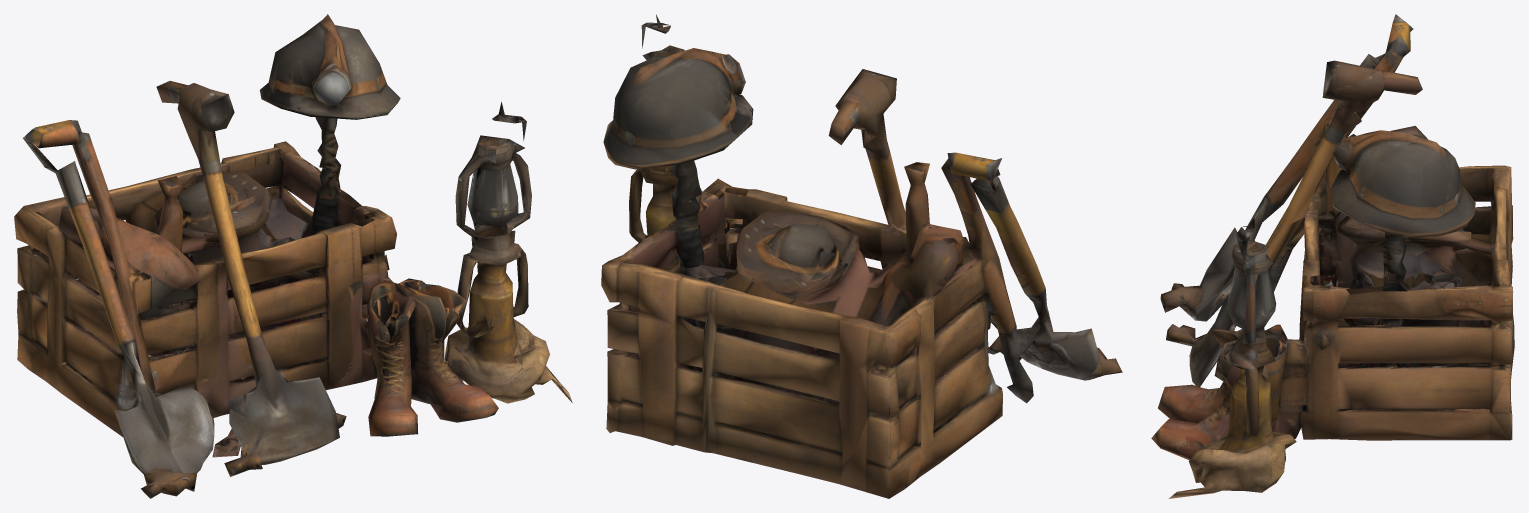
File: Objetos1.fbx
3 views of the same model, side by side, from view 1: azimuth 30°, elevation 25°; view 2: azimuth 150°, elevation 25°; view 3: azimuth 270°, elevation 25° (orthographic). The views are drawn at different scales.
Visible parts, largest first — view 1: input; view 2: input; view 3: input.
Boxes of the visible parts, x1=… form: input: x1=14, y1=14, x2=572, y2=498; input: x1=601, y1=14, x2=1122, y2=498; input: x1=1151, y1=14, x2=1514, y2=498.
Bounding box in the file's own units: 201 × 144 × 151.
1 material, 1 textured.
